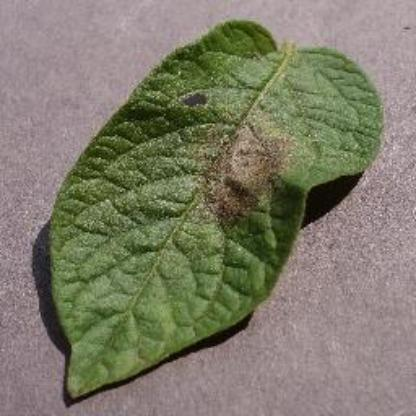Late-Blight: (46, 5, 382, 384)
